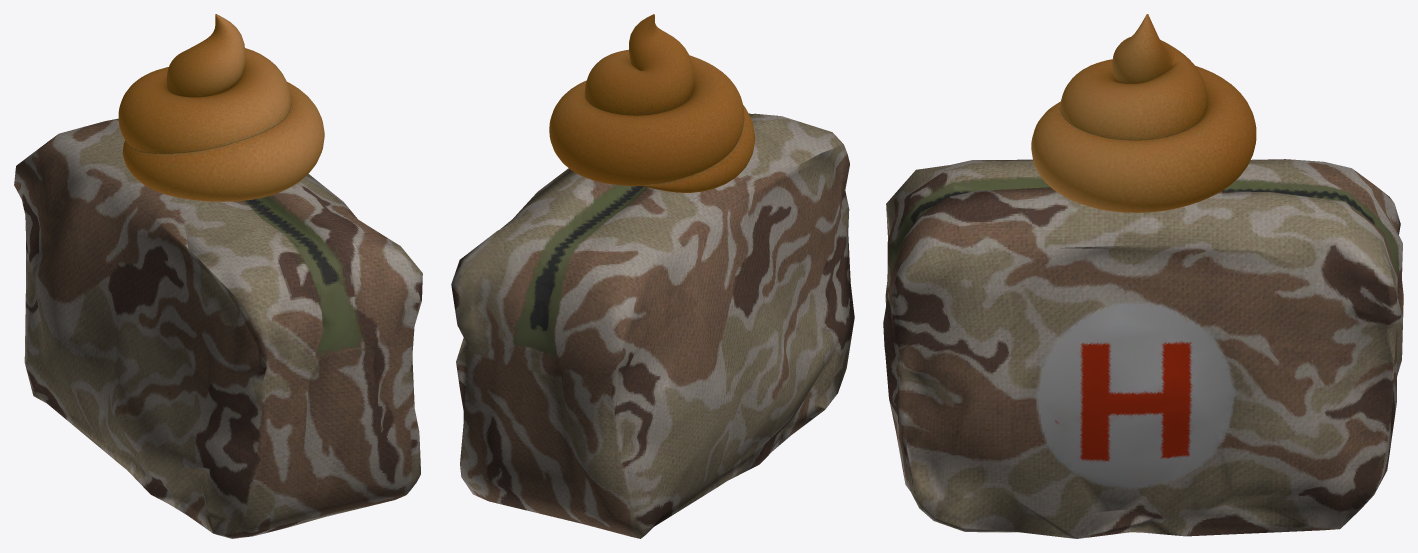
Rendered from shit_pubg_mobile_first_aid_kit.glb.
3 renders of one model, left to right at view 1: azimuth 30°, elevation 25°; view 2: azimuth 150°, elevation 25°; view 3: azimuth 270°, elevation 25°, orthographic. The views are drawn at different scales.
Visible parts, largest first — view 1: Spiral.001_0; view 2: Spiral.001_0; view 3: Spiral.001_0.
Part boxes in pixels (x1=…): Spiral.001_0: x1=14, y1=14, x2=422, y2=538; Spiral.001_0: x1=451, y1=14, x2=854, y2=538; Spiral.001_0: x1=883, y1=14, x2=1403, y2=538.
Size of the model in its own units: 0.8197 by 1.53 by 1.51.
2 materials, 2 textured.
